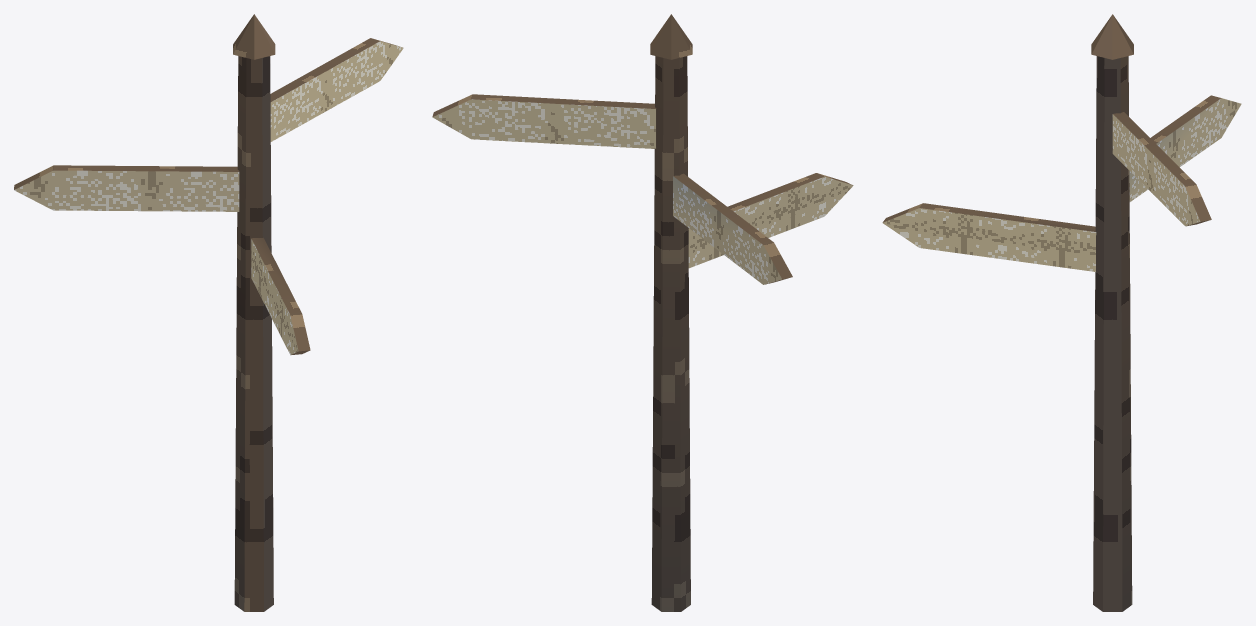
Rendered from mprop.signpost.glb.
The picture shows the model from 3 angles, left to right: view 1: azimuth 30°, elevation 25°; view 2: azimuth 150°, elevation 25°; view 3: azimuth 270°, elevation 25°; orthographic projection.
Visible parts, largest first — view 1: kit_post, kit_boards; view 2: kit_post, kit_boards; view 3: kit_post, kit_boards.
Boxes of the visible parts, bbox=[...] form: kit_post: bbox=[233, 14, 275, 611]; kit_boards: bbox=[14, 38, 403, 355]; kit_post: bbox=[650, 14, 692, 611]; kit_boards: bbox=[432, 94, 853, 284]; kit_post: bbox=[1091, 14, 1133, 611]; kit_boards: bbox=[882, 95, 1241, 271].
Size of the model in its own units: 1.77 by 2.66 by 1.47.
Materials: 2 (2 with a texture image).
